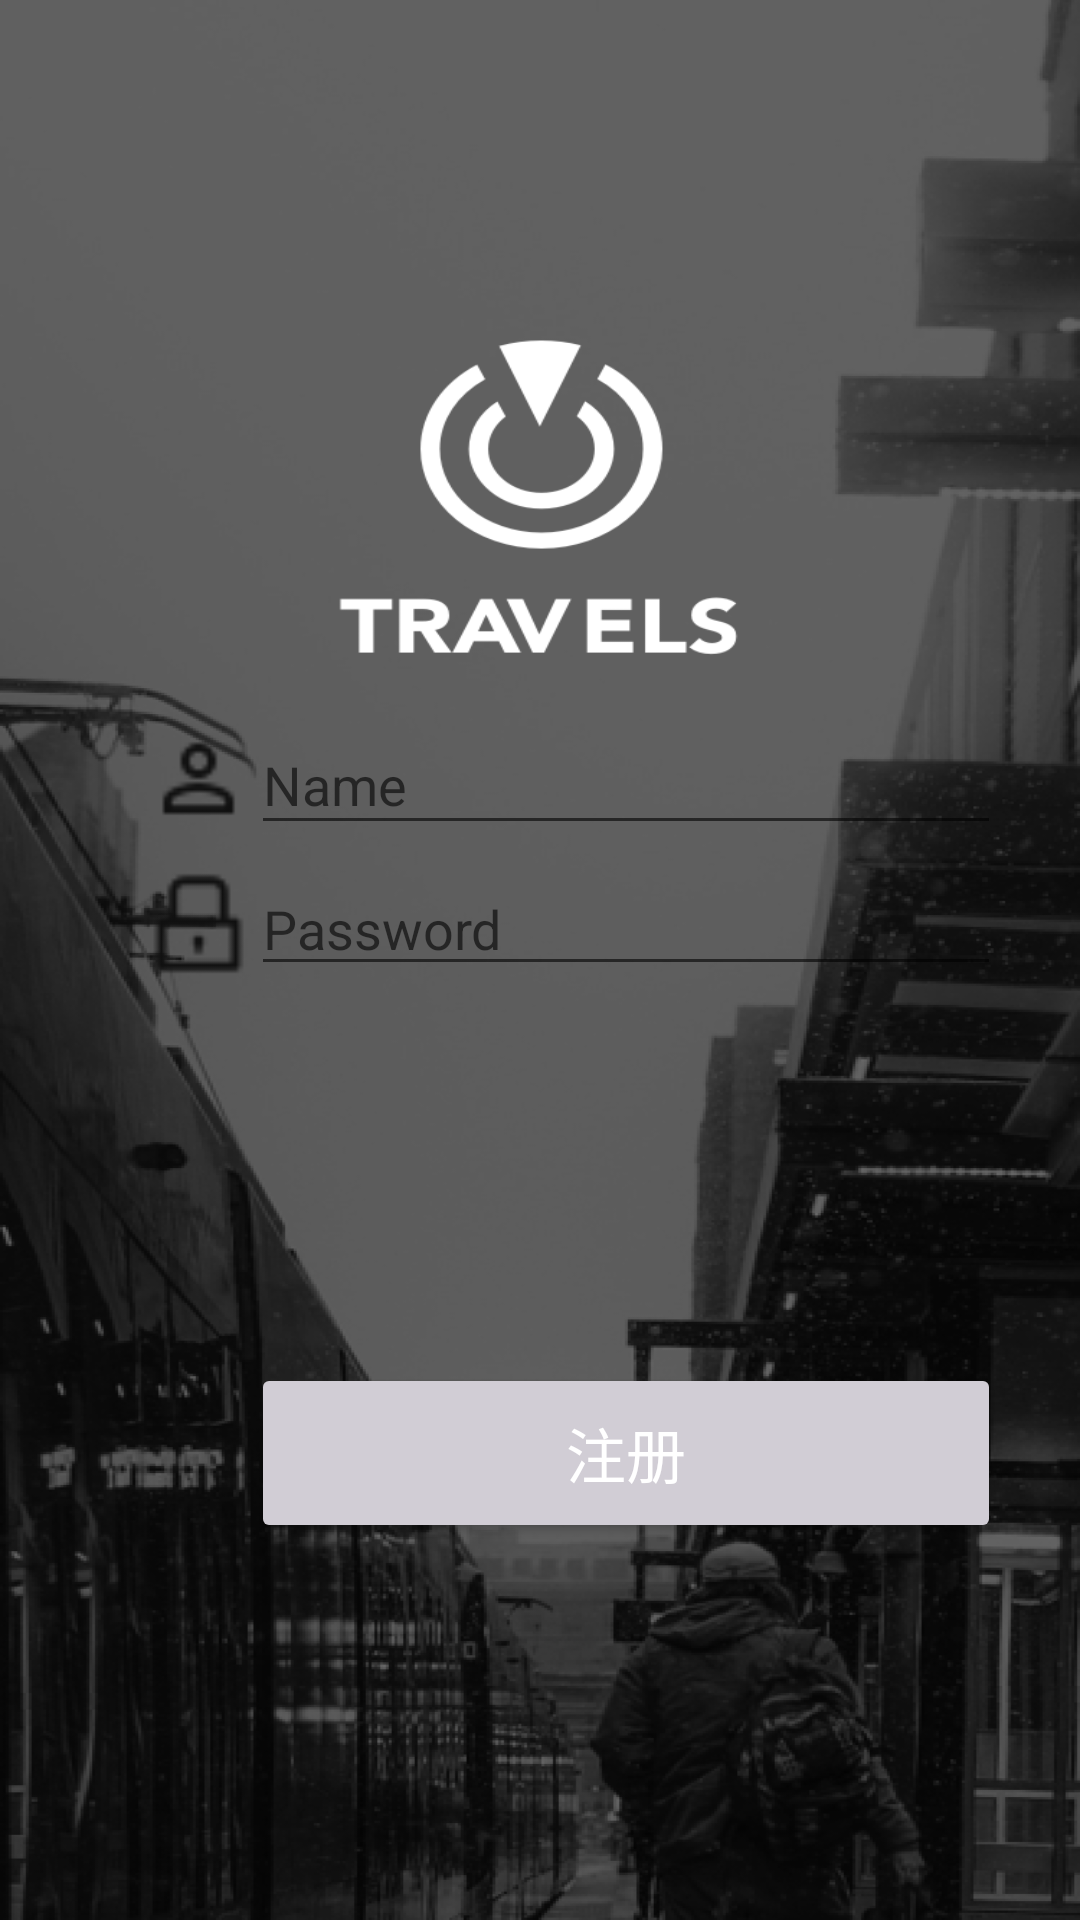

Where icons sit on this 1080*1920 app screen, as detection(x1, y1, x2, y2):
lock: detection(146, 875, 241, 976)
user: detection(163, 726, 251, 814)
